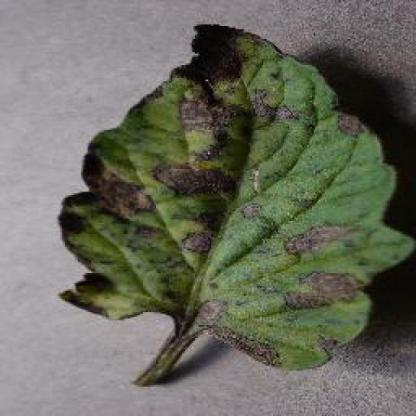Tomato_Blight: (60, 24, 410, 368)
